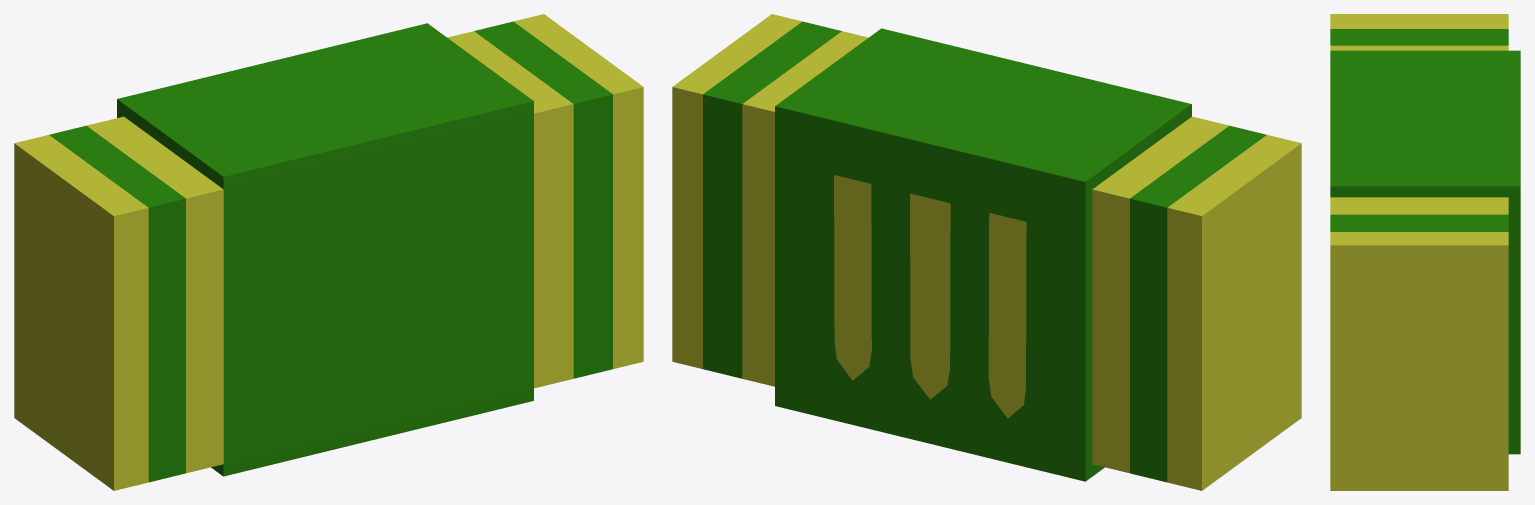
File: AmmoPack.fbx
3 views of the same model, side by side, from view 1: azimuth 30°, elevation 25°; view 2: azimuth 150°, elevation 25°; view 3: azimuth 270°, elevation 25° (orthographic). The views are drawn at different scales.
Parts seen in each view (by area): view 1: Cube; view 2: Cube; view 3: Cube.
Boxes of the visible parts, <box> form: Cube: <box>14,14,643,490</box>; Cube: <box>672,14,1301,490</box>; Cube: <box>1330,14,1520,490</box>.
Bounding box in the file's own units: 184 × 99.35 × 64.03.
